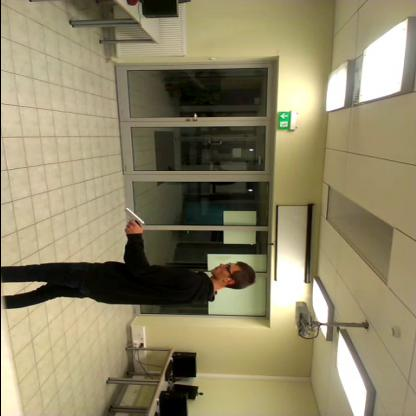Pistol: (116, 204, 151, 235)
